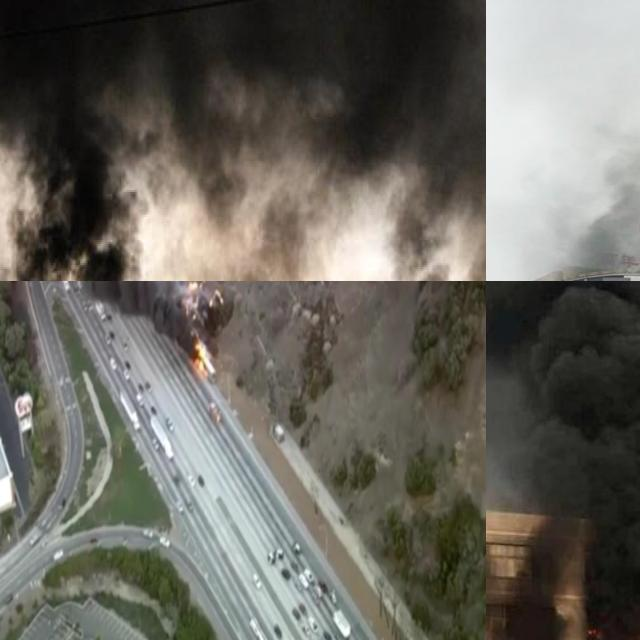fire: (191, 337, 209, 378)
smoke: (0, 0, 486, 281), (486, 281, 640, 640), (487, 0, 640, 279)
